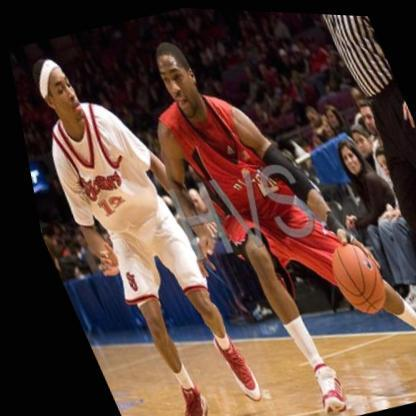basketball: (310, 232, 386, 317)
